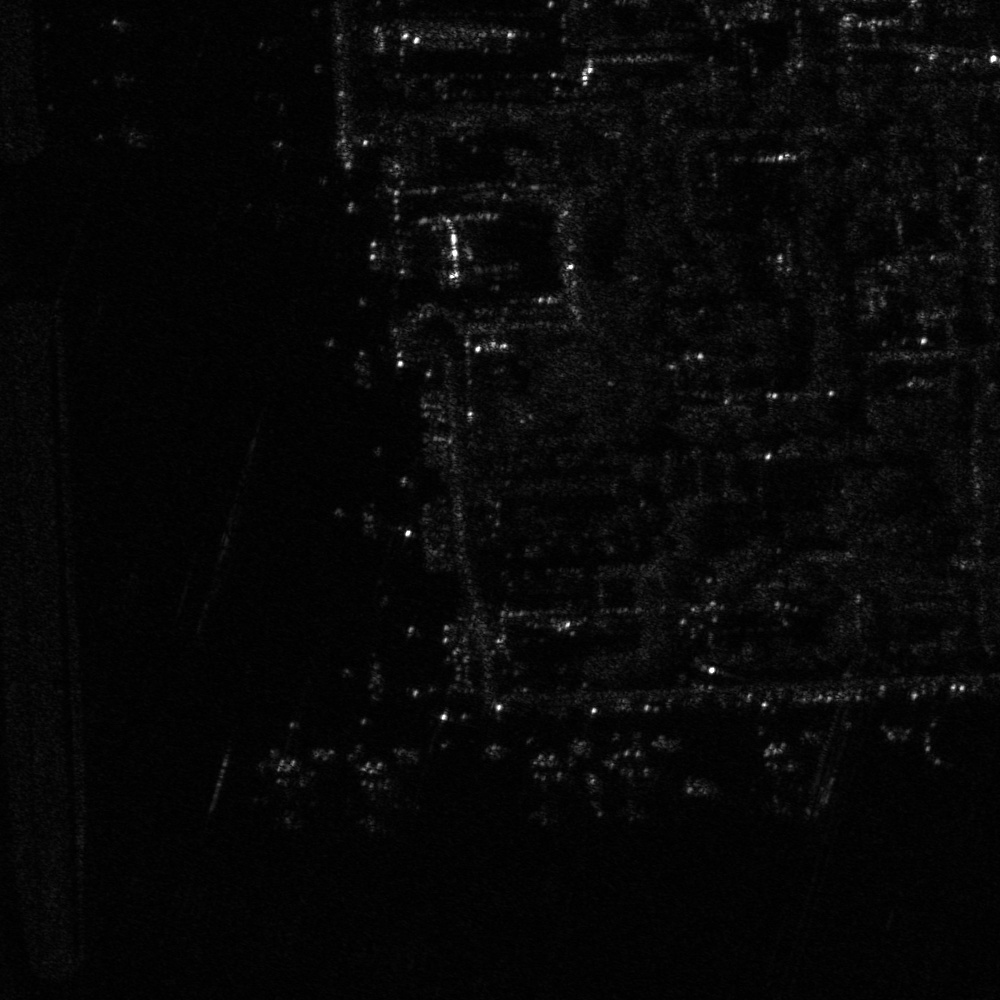A320/321: (243, 746, 324, 829)
ARJ21: (743, 737, 822, 817)
Boeing737: (332, 757, 424, 839), (514, 746, 578, 825)
other: (593, 744, 672, 824)
